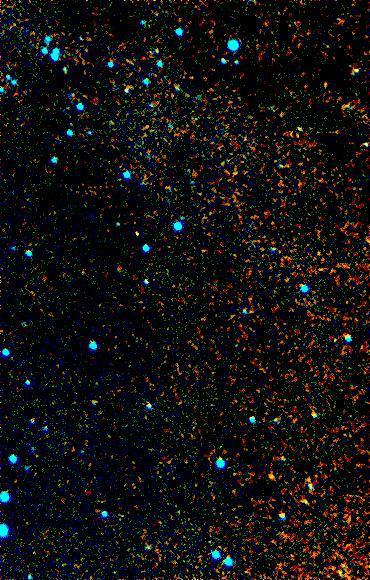star: (257, 461, 287, 491)
